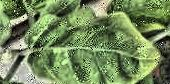Non-critical Stress: (0, 0, 170, 83)
